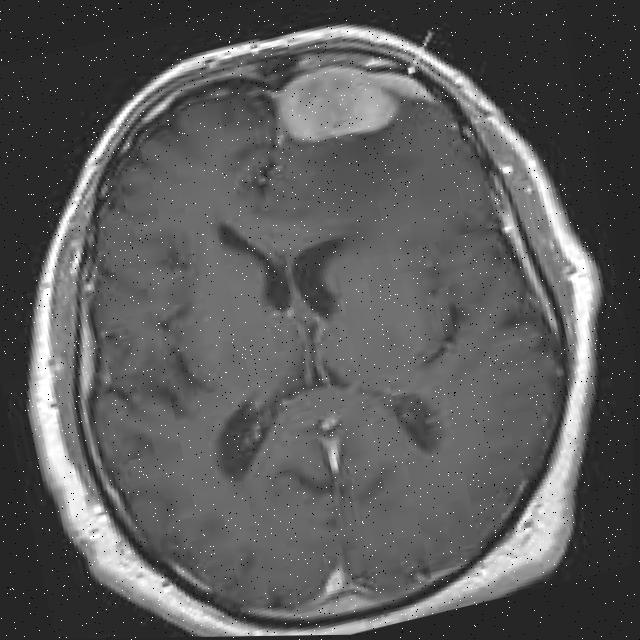Meningioma: (264, 41, 446, 156)
